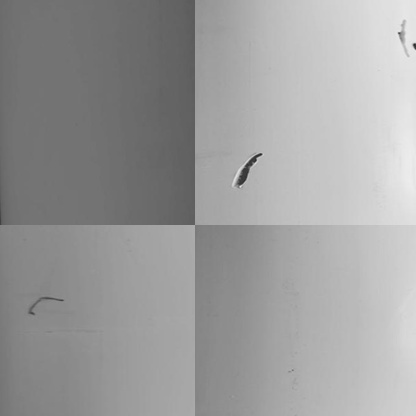fengxi: (25, 292, 70, 319)
kongdong: (234, 149, 263, 188)
sunshang: (394, 21, 414, 55)
